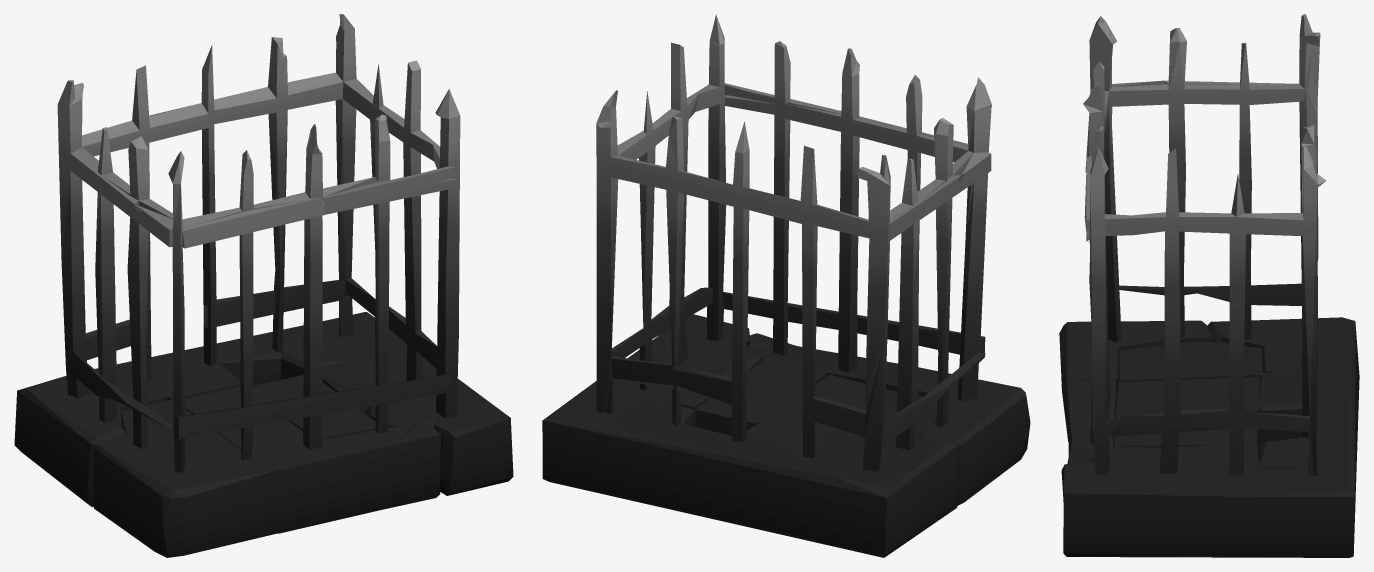
File: EA_Grave_Railing_01a.glb
3 views of the same model, side by side, from view 1: azimuth 30°, elevation 25°; view 2: azimuth 150°, elevation 25°; view 3: azimuth 270°, elevation 25° (orthographic).
Visible parts, largest first — view 1: EA_Grave_Railing_01a; view 2: EA_Grave_Railing_01a; view 3: EA_Grave_Railing_01a.
Boxes of the visible parts, box(x1,y1,x2,y2) form: EA_Grave_Railing_01a: box(14, 14, 513, 557); EA_Grave_Railing_01a: box(542, 14, 1030, 557); EA_Grave_Railing_01a: box(1059, 14, 1359, 557).
Bounding box in the file's own units: 2.58 × 2.78 × 1.93.
1 material, 1 textured.
